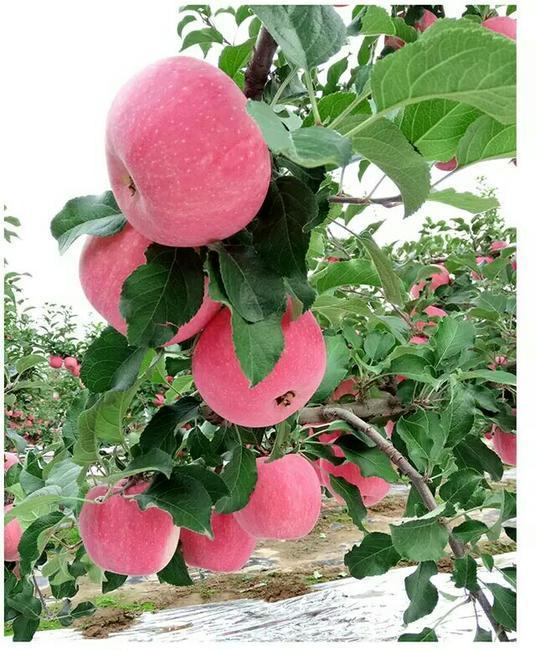apple: (104, 59, 272, 245), (194, 289, 325, 427), (81, 223, 221, 342), (84, 488, 181, 576), (236, 452, 321, 541), (178, 507, 256, 572)
